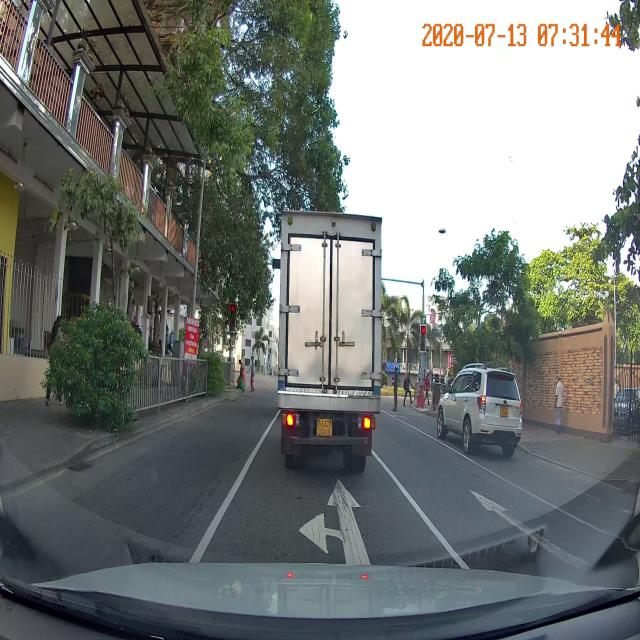forward_lft: (188, 467, 472, 568), (201, 492, 442, 538)
